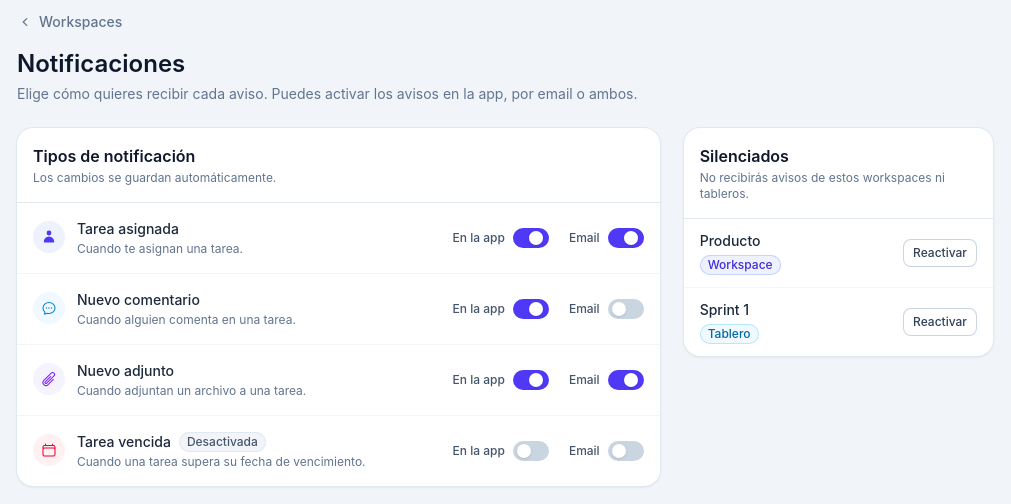
Test case: NotificationSettingsPage › removes a mute when the user reactivates notifications
What coordinates should you click on to do the following:
click the button with aria-label "Reactivar notificaciones de Producto"
I would click on:
 (940, 253)
Its box is [903,239,977,267].
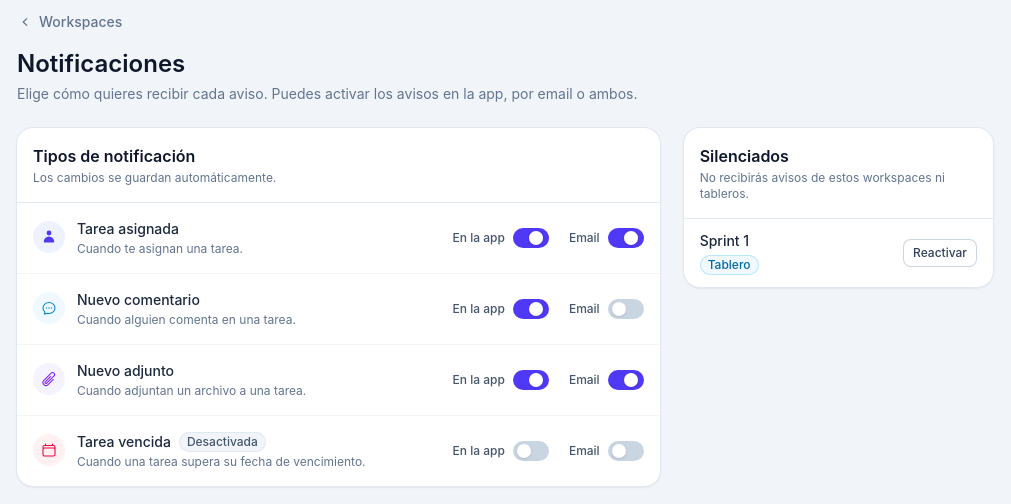
Result: the text "Producto" is gone
